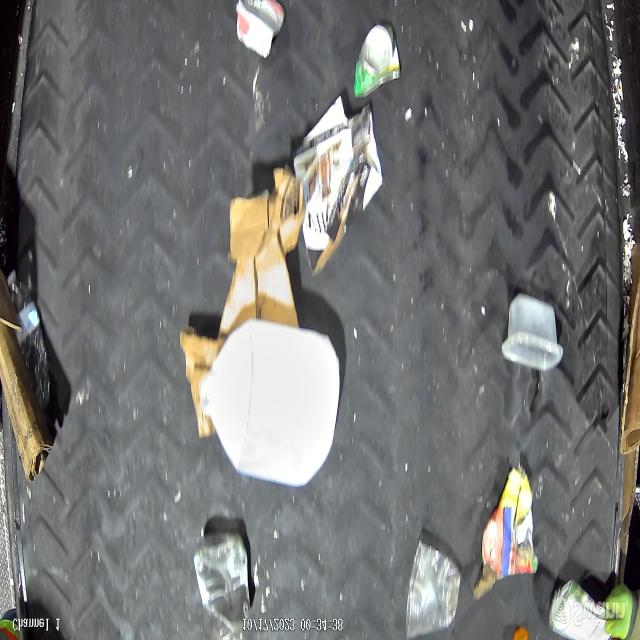can: (353, 20, 400, 100)
milk_jug: (202, 319, 342, 488)
plastic_bottle: (8, 270, 50, 409)
